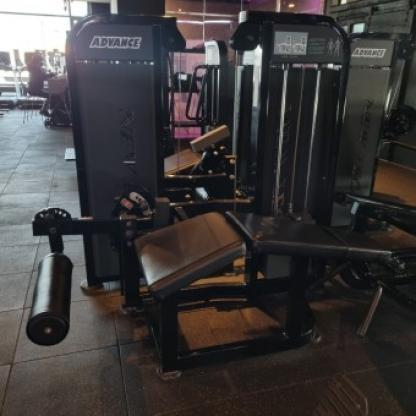reg curl machine: (20, 12, 416, 377)
